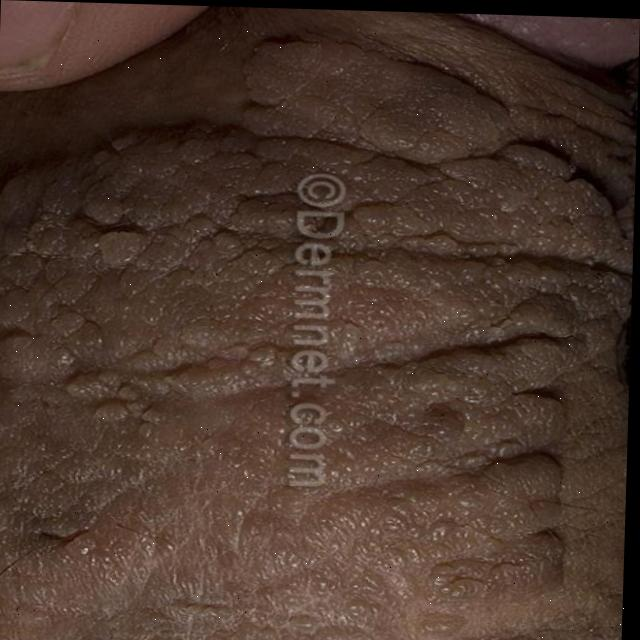Shingles: (0, 38, 633, 598)
